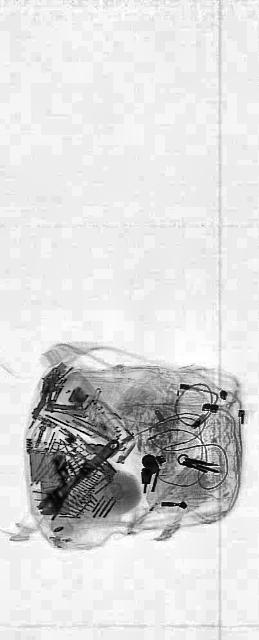Wrench: (36, 428, 120, 528)
